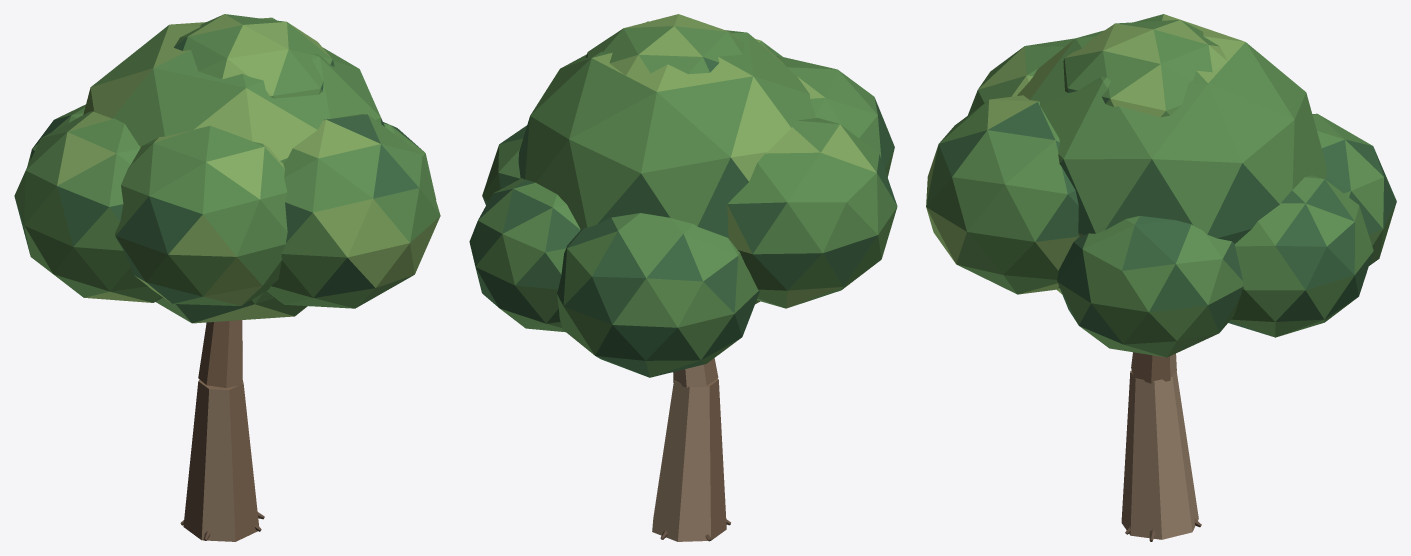
File: tree_oak_02.glb
3 views of the same model, side by side, from view 1: azimuth 30°, elevation 25°; view 2: azimuth 150°, elevation 25°; view 3: azimuth 270°, elevation 25° (orthographic).
Visible parts, largest first — view 1: tree_oak_02; view 2: tree_oak_02; view 3: tree_oak_02.
Part boxes in pixels (left/top/right/bottom): tree_oak_02: left=14, top=14, right=440, bottom=541; tree_oak_02: left=469, top=14, right=897, bottom=541; tree_oak_02: left=926, top=14, right=1396, bottom=541.
Bounding box in the file's own units: 4.85 × 5.89 × 4.98.
